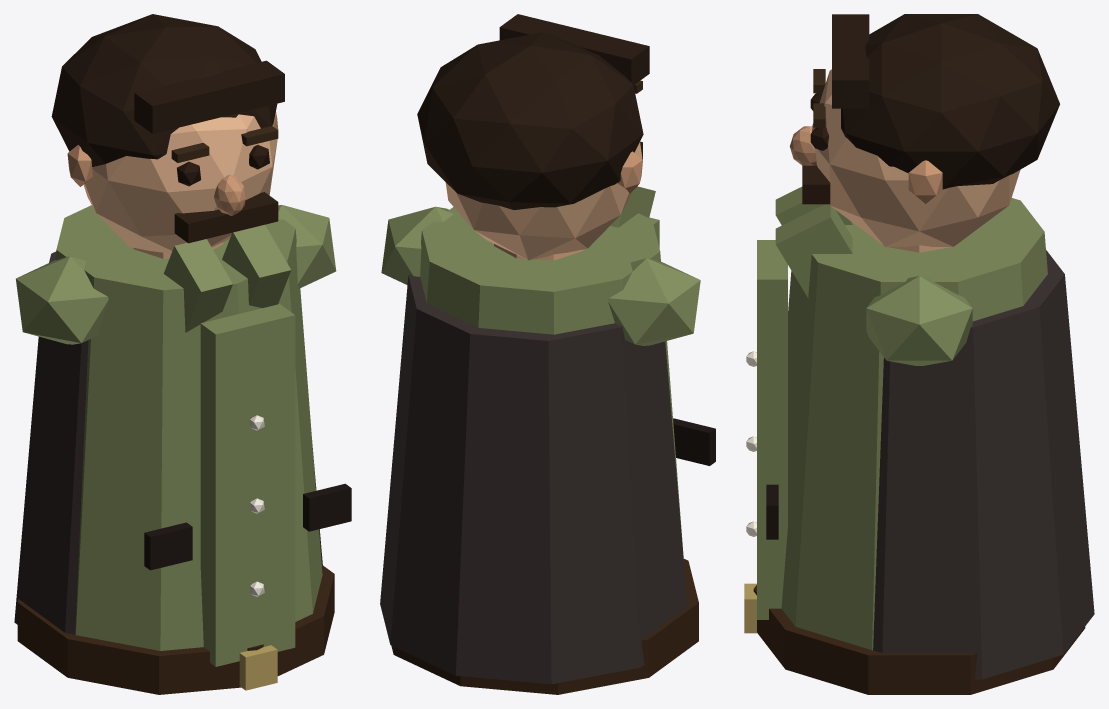
The model's file is insan_e3_govde.glb.
3 renders of one model, left to right at view 1: azimuth 30°, elevation 25°; view 2: azimuth 150°, elevation 25°; view 3: azimuth 270°, elevation 25°, orthographic. The views are drawn at different scales.
Parts seen in each view (by area): view 1: Cone; view 2: Cone; view 3: Cone.
Boxes of the visible parts, x1,y1,x2,y2 form: Cone: (14,14,351,694); Cone: (380,14,715,694); Cone: (744,14,1094,694).
Bounding box in the file's own units: 0.1158 × 0.2135 × 0.112.
